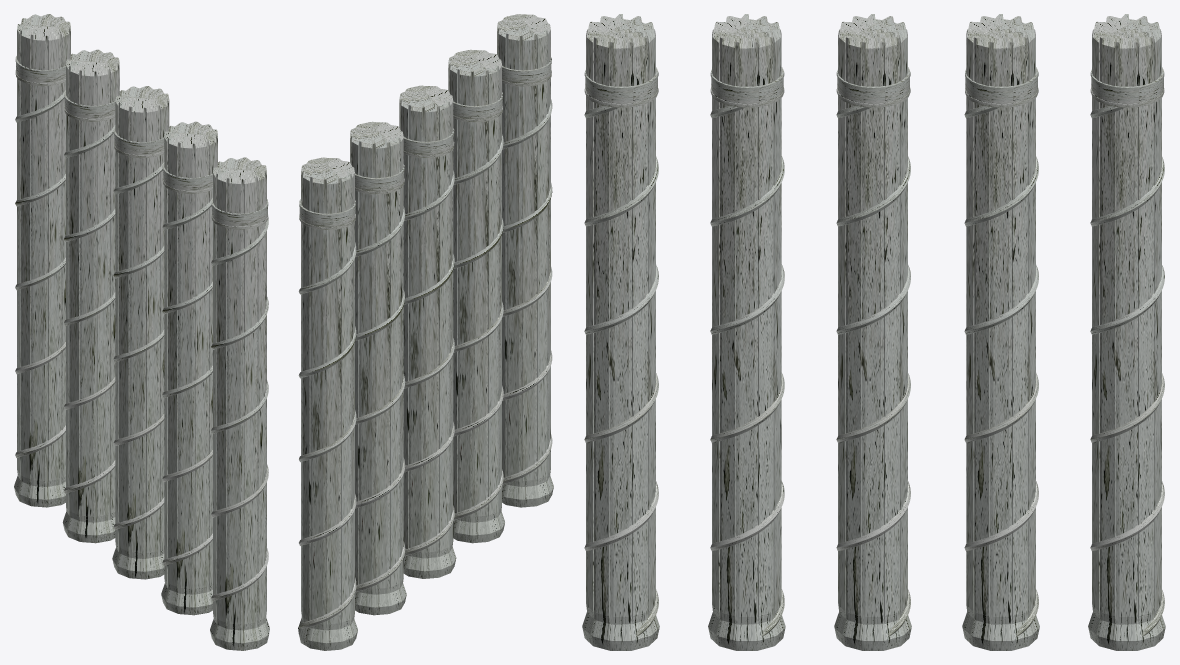
The model's file is GateGohon 1.fbx.
The picture shows the model from 3 angles, left to right: view 1: azimuth 30°, elevation 25°; view 2: azimuth 150°, elevation 25°; view 3: azimuth 270°, elevation 25°; orthographic projection. The views are drawn at different scales.
Visible parts, largest first — view 1: pHelix6; view 2: pHelix6; view 3: pHelix6.
Boxes of the visible parts, x1=… form: pHelix6: x1=14, y1=14, x2=269, y2=650; pHelix6: x1=298, y1=14, x2=553, y2=650; pHelix6: x1=582, y1=14, x2=1165, y2=650.
Bounding box in the file's own units: 2.13 × 18.56 × 16.16.
1 material, 1 textured.
